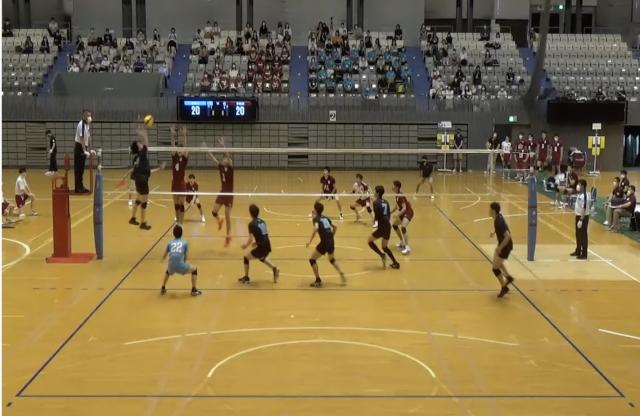spike: (126, 113, 158, 233)
